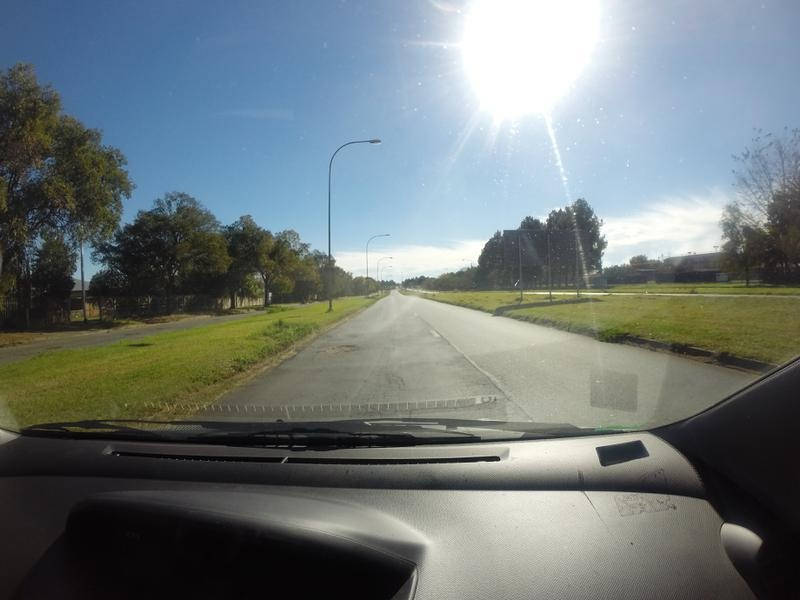pothole: (326, 341, 374, 354)
